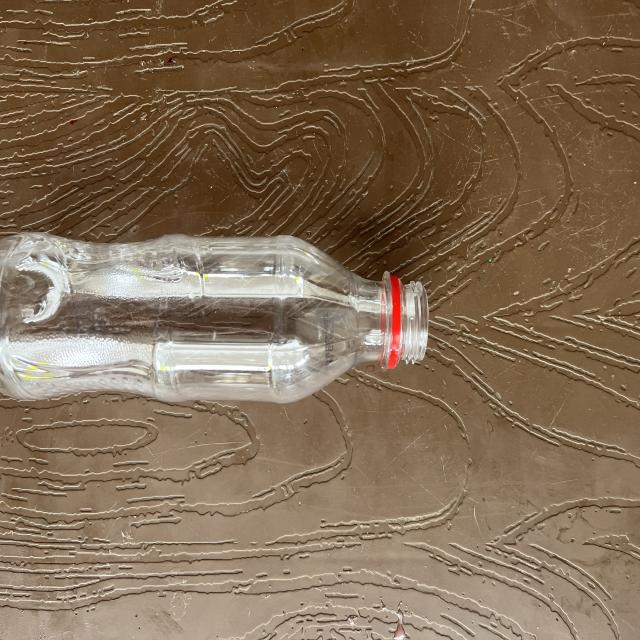PET_With_Cap: (0, 240, 432, 407)
